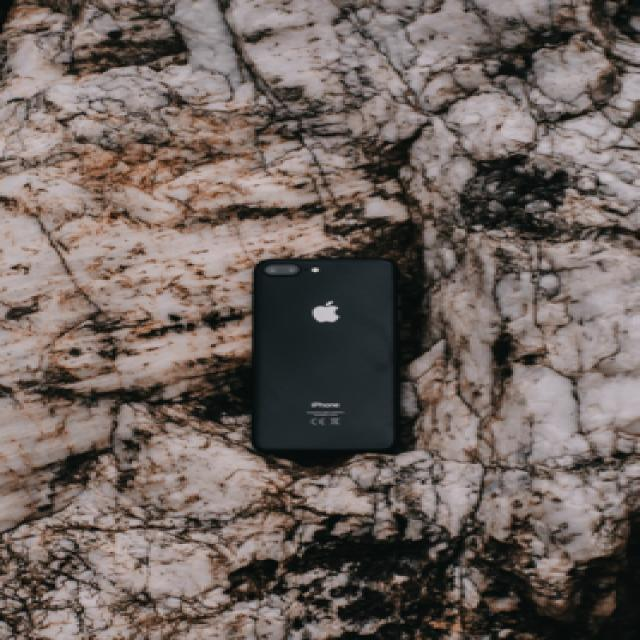cellphone: (249, 256, 398, 453)
